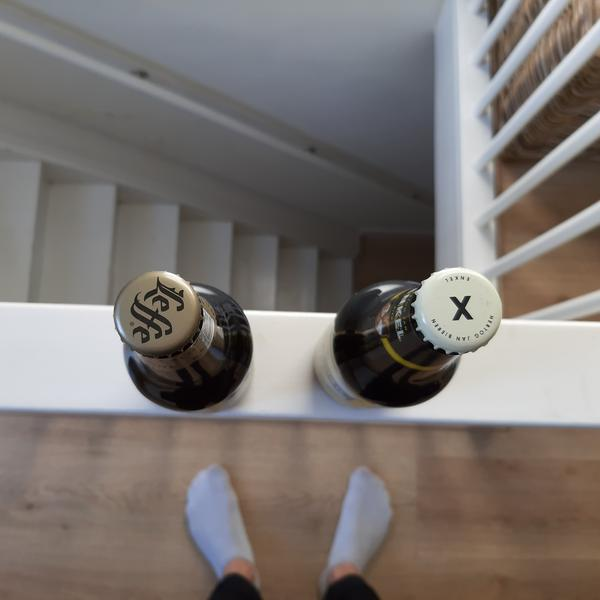leffe: (112, 271, 202, 355)
